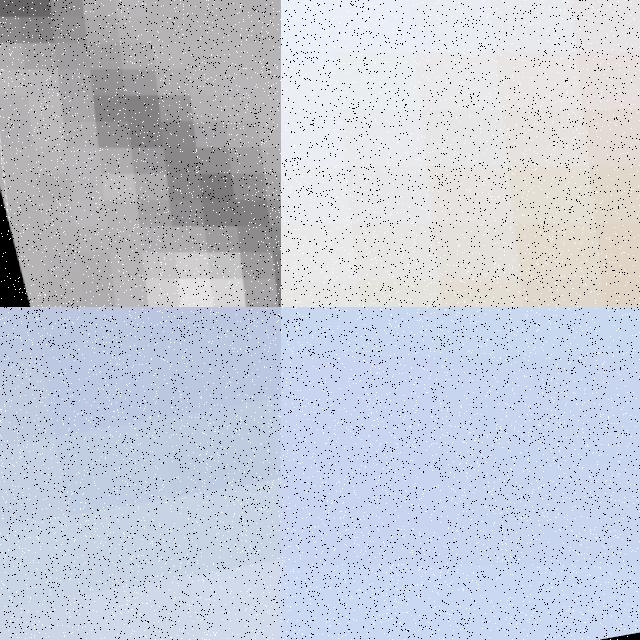0: (281, 0, 640, 307), (0, 0, 281, 307)
drone: (281, 307, 640, 640)
